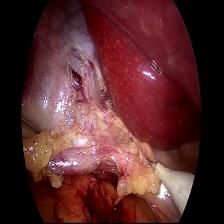Grasper: (21, 114, 43, 146)
Hook: (145, 155, 194, 209)
